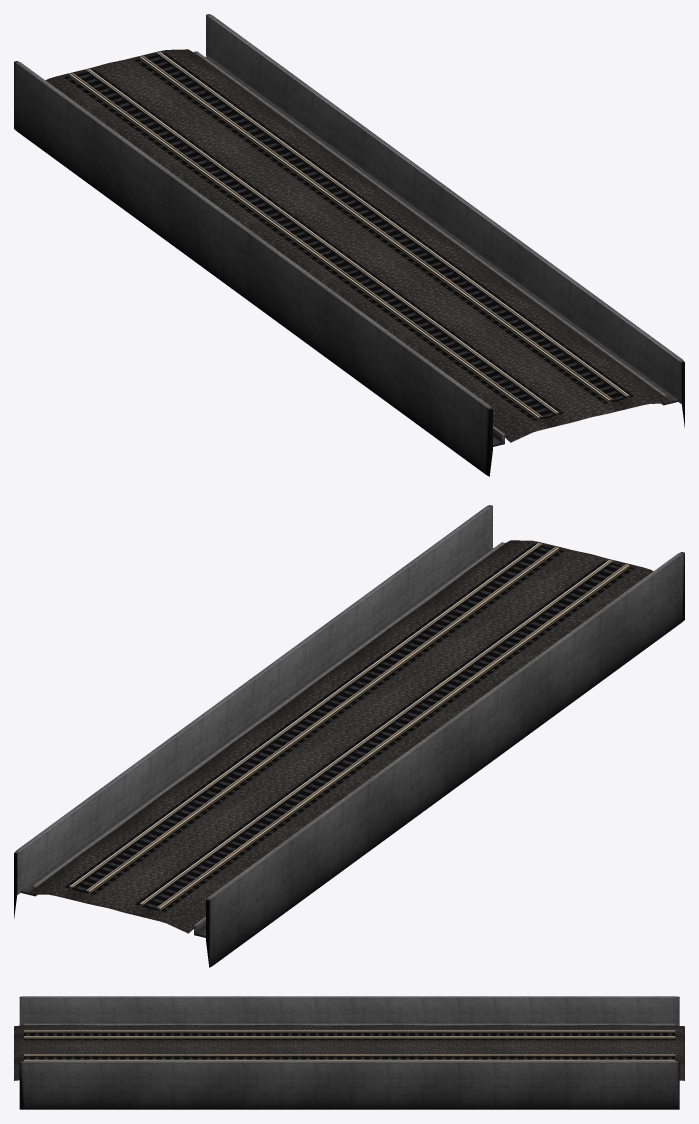
File: MEI_2RAIL_150_WALL.glb
3 views of the same model, one above another, from view 1: azimuth 30°, elevation 25°; view 2: azimuth 150°, elevation 25°; view 3: azimuth 270°, elevation 25° (orthographic). The views are drawn at different scales.
Visible parts, largest first — view 1: Jari_All3, R000_RG_R3, R000_RG_L3; view 2: Jari_All3, R000_RG_R3, R000_RG_L3; view 3: Jari_All3, R000_RG_L3, R000_RG_R3.
Boxes of the visible parts, left/top/right/bottom form: Jari_All3: left=14, top=14, right=684, bottom=476; R000_RG_R3: left=71, top=55, right=612, bottom=417; R000_RG_L3: left=86, top=52, right=626, bottom=413; Jari_All3: left=14, top=505, right=684, bottom=967; R000_RG_R3: left=86, top=546, right=627, bottom=908; R000_RG_L3: left=71, top=543, right=612, bottom=905; Jari_All3: left=14, top=996, right=684, bottom=1109; R000_RG_L3: left=24, top=1036, right=675, bottom=1060; R000_RG_R3: left=24, top=1031, right=675, bottom=1055.
Size of the model in its own units: 36.23 by 11.93 by 155.
Materials: 8 (7 with a texture image).
